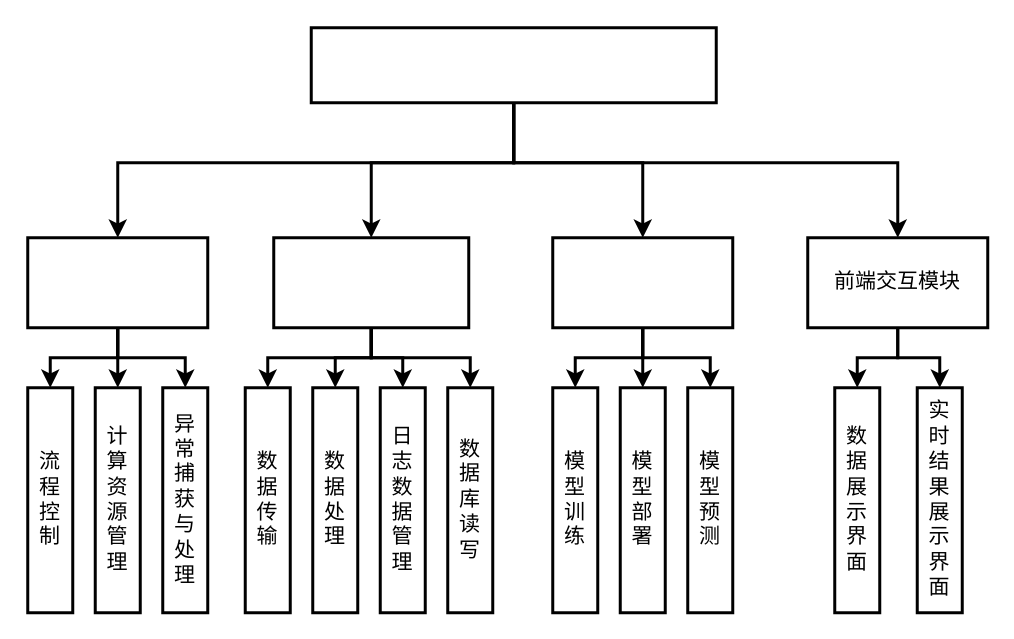
Some shapes in this 1014 by 639 pixel diagram are drawn without their labels. Each missing label, with the box of its shape:
基于城市流量的聚集预测告警系统: (309, 26, 717, 104)
数据传输和处理模块: (272, 236, 470, 328)
聚集预测模块: (550, 236, 734, 328)
资源管理模块: (26, 236, 208, 328)
